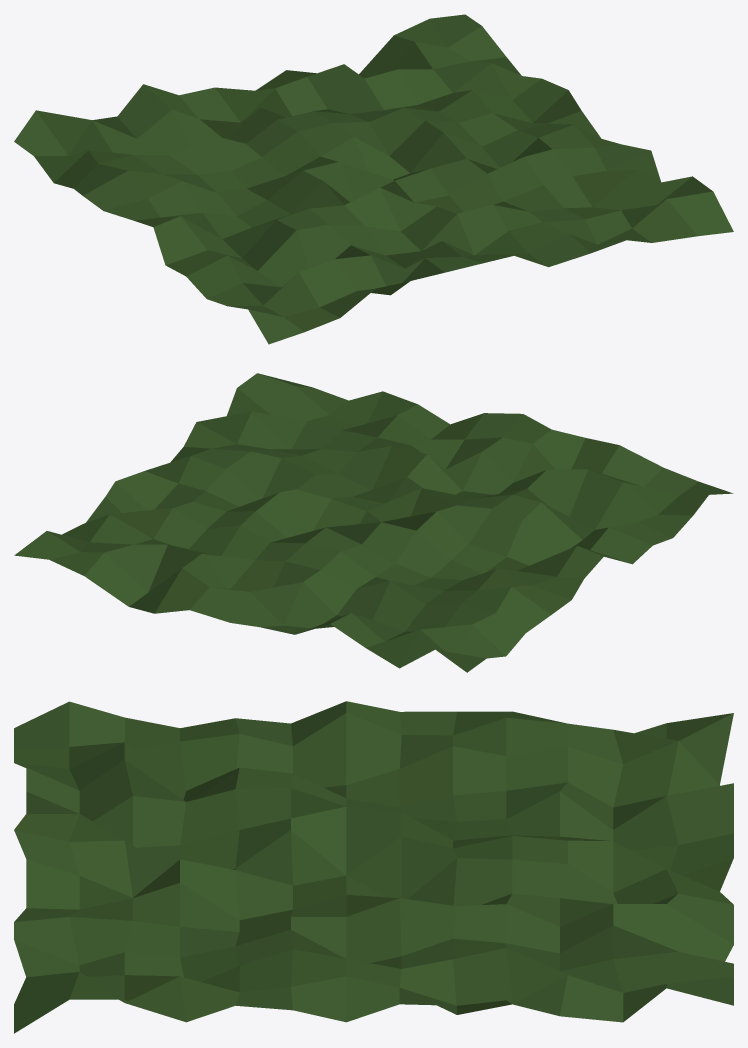
The model's file is test-terrain.glb.
The picture shows the model from 3 angles, top to bottom: view 1: azimuth 30°, elevation 25°; view 2: azimuth 150°, elevation 25°; view 3: azimuth 270°, elevation 25°; orthographic projection. The views are drawn at different scales.
Parts seen in each view (by area): view 1: floor; view 2: floor; view 3: floor.
Boxes of the visible parts, box(x1,y1,x2,y2) form: floor: box(14, 14, 733, 344); floor: box(14, 373, 733, 672); floor: box(14, 701, 733, 1033).
Size of the model in its own units: 10.47 by 0.8129 by 10.47.
